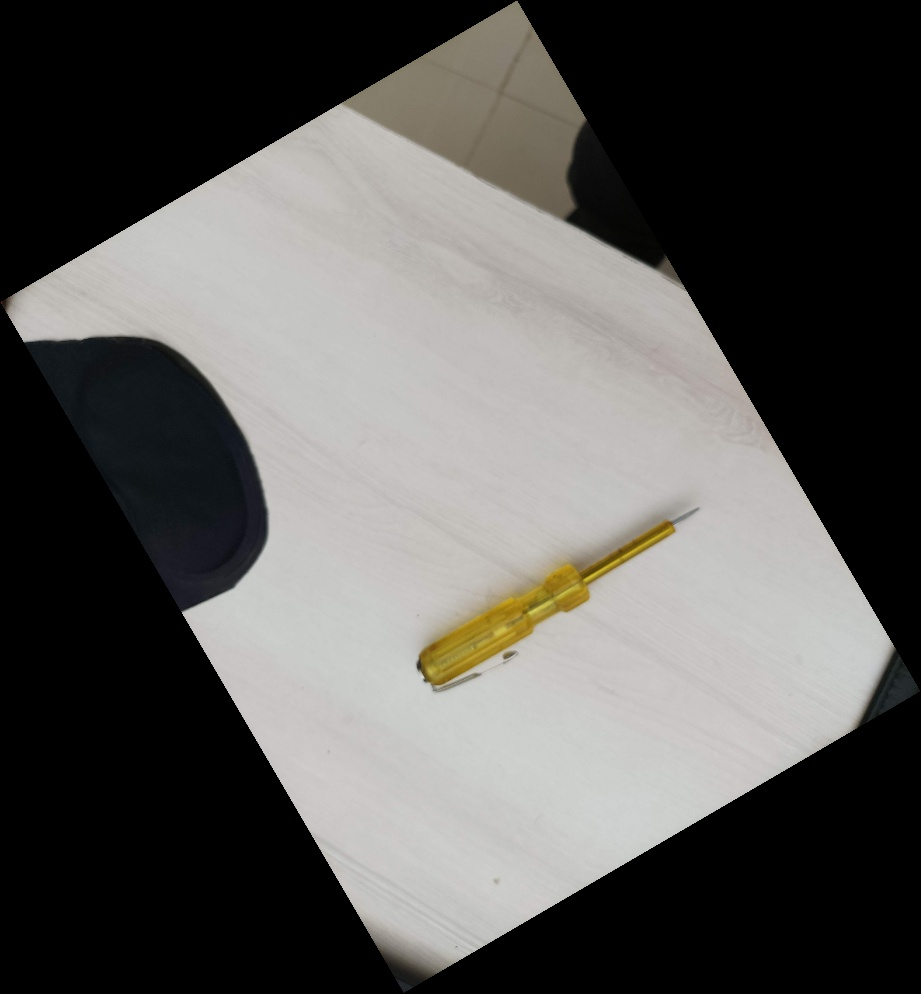screwdriver: (412, 496, 706, 696)
